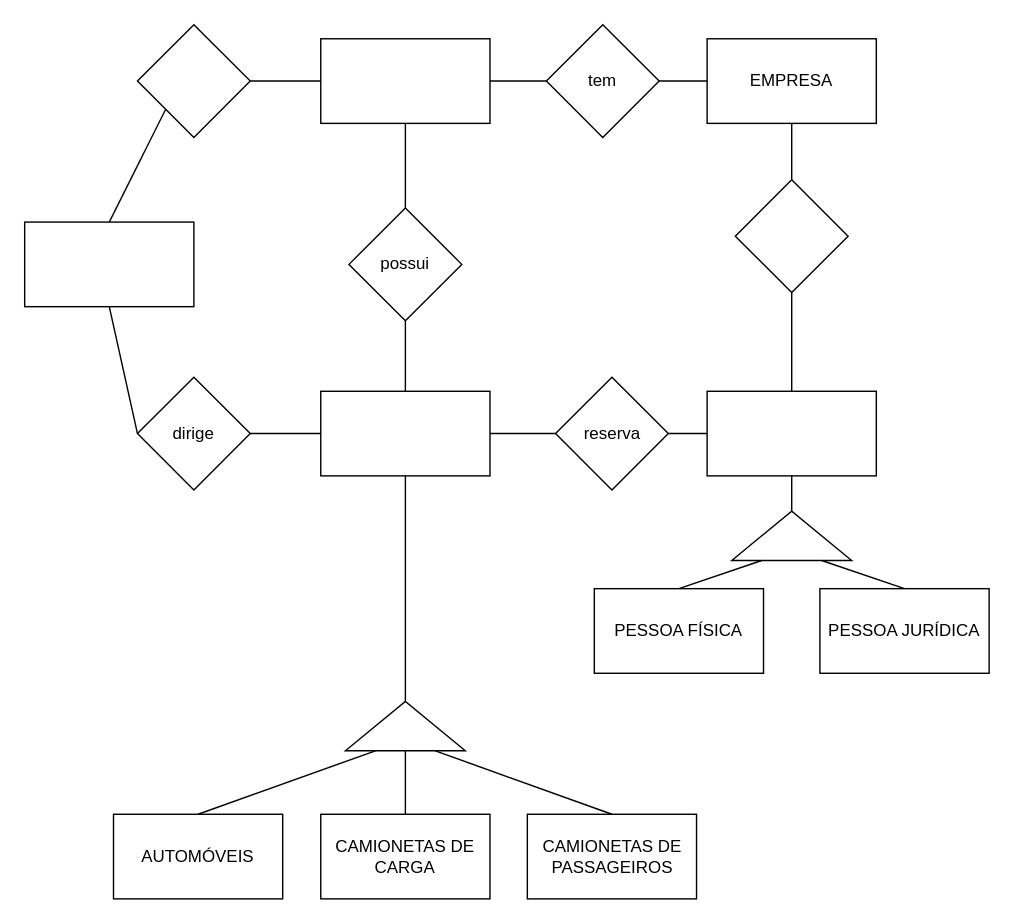
This 1014x924 diagram has some shape labels left out. Here are the shapes that lost their labels. From the top down, the box of each, then its label:
(319, 37, 490, 123): FILIAL
(734, 178, 848, 293): atende
(23, 221, 194, 307): MOTORISTA
(319, 390, 490, 476): VEÍCULO
(706, 390, 876, 476): CLIENTE
